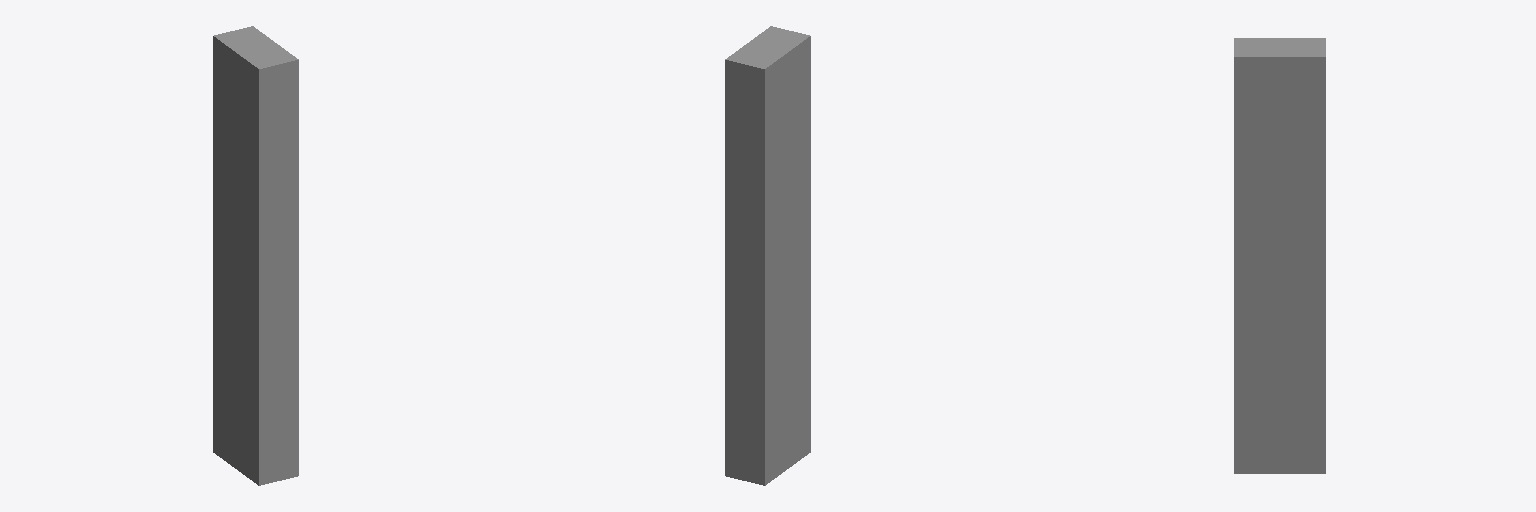
Rendered from Ladder.obj.
3 renders of one model, left to right at view 1: azimuth 30°, elevation 25°; view 2: azimuth 150°, elevation 25°; view 3: azimuth 270°, elevation 25°, orthographic.
Parts seen in each view (by area): view 1: Cube; view 2: Cube; view 3: Cube.
Boxes of the visible parts, <box> form: Cube: <box>213,26,298,485</box>; Cube: <box>725,26,810,485</box>; Cube: <box>1234,38,1325,473</box>.
Size of the model in its own units: 1 by 10 by 2.